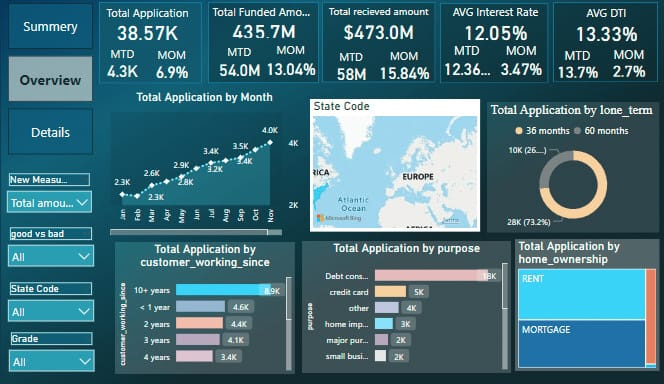

What the dashboard file says about the page in this screenshot:
{"tool":"powerbi","page":{"name":"Overview","canvas":[960,720],"ordinal":2},"visuals":[{"type":"group","id":"g1","title":"Group 7","box":[142,82.6,807.2,120.3],"z":0},{"type":"areaChart","fields":{"Category":["Date table.Month"],"Y":["financial_loandata bankloan.Total Application"]},"box":[153.5,212.2,280.8,213.9],"z":1000},{"type":"shape","box":[142.6,84.9,148,117.1],"z":2000,"group":"g2"},{"type":"shape","box":[463.5,85.4,163.2,115.7],"z":2000,"group":"g4"},{"type":"donutChart","fields":{"Y":["financial_loandata bankloan.Total Application"],"Category":["financial_loandata bankloan.lone_term"]},"box":[701.7,228.3,248.3,188.3],"z":2000},{"type":"card","fields":{"Values":["financial_loandata bankloan.Total Application"]},"box":[142,85.4,139.6,60.4],"z":3000,"group":"g2"},{"type":"shape","box":[632.2,86.5,155.9,115.5],"z":3000,"group":"g5"},{"type":"barChart","fields":{"Y":["financial_loandata bankloan.Total Application"],"Category":["financial_loandata bankloan.customer_working_since"]},"box":[165.2,430.4,259.4,189.9],"z":3000},{"type":"card","fields":{"Values":["financial_loandata bankloan.Total amount recieved"]},"box":[466.6,82.6,157.8,64.3],"z":4000,"group":"g4"},{"type":"card","fields":{"Values":["financial_loandata bankloan.MTD"]},"box":[143.4,144,64.5,55.3],"z":4000,"group":"g2"},{"type":"barChart","fields":{"Y":["financial_loandata bankloan.Total Application"],"Category":["financial_loandata bankloan.purpose"]},"box":[434.8,429,301.4,189.9],"z":4000},{"type":"card","fields":{"Values":["financial_loandata bankloan.MOM"]},"box":[210.6,145.3,71.3,54],"z":5000,"group":"g2"},{"type":"card","fields":{"Values":["financial_loandata bankloan.MTDrecieved"]},"box":[463.5,148.4,83.8,54.5],"z":5000,"group":"g4"},{"type":"treemap","fields":{"Values":["financial_loandata bankloan.Total Application"],"Group":["financial_loandata bankloan.home_ownership"]},"box":[741.7,426.7,208.3,190],"z":5000},{"type":"shape","box":[299.1,85.3,159.5,116.8],"z":6000,"group":"g3"},{"type":"card","fields":{"Values":["financial_loandata bankloan.MOMrecieved"]},"box":[540.3,147.1,83.7,54],"z":6000,"group":"g4"},{"type":"slicer","fields":{"Values":["financial_loandata bankloan.Grade"]},"box":[2.9,556.5,143.5,81.2],"z":6000},{"type":"shape","box":[795.3,86.6,151.1,115.5],"z":7000,"group":"g6"},{"type":"slicer","fields":{"Values":["financial_loandata bankloan.State Code"]},"box":[1.6,483.3,143.7,68.6],"z":7000},{"type":"card","fields":{"Values":["financial_loandata bankloan.AVGinterest rate"]},"box":[634.7,84.3,153.9,62],"z":8000,"group":"g5"},{"type":"slicer","fields":{"Values":["financial_loandata bankloan.good vs bad"]},"box":[1.6,404.9,143.7,70.2],"z":8000},{"type":"card","fields":{"Values":["financial_loandata bankloan.MTD Avg"]},"box":[631,137.4,79.7,60.9],"z":9000,"group":"g5"},{"type":"slicer","fields":{"Values":["New Measure .New Measure "]},"box":[0,326.5,142,71.8],"z":9000},{"type":"card","fields":{"Values":["financial_loandata bankloan.MOM interest"]},"box":[712.2,137.4,75.4,60.9],"z":10000,"group":"g5"},{"type":"filledMap","fields":{"Category":["financial_loandata bankloan.State Code"]},"box":[445.7,225.3,244.9,191],"z":10000},{"type":"card","fields":{"Values":["financial_loandata bankloan.AVG Dti"]},"box":[795.3,86.1,153.9,62],"z":11000,"group":"g6"},{"type":"pageNavigator","box":[11.4,86.5,122.4,218.8],"z":11000},{"type":"card","fields":{"Values":["Sum(financial_loandata bankloan.loan_amount)"]},"box":[300.3,84,158.3,58.4],"z":12000,"group":"g3"},{"type":"card","fields":{"Values":["financial_loandata bankloan.MTD DTI"]},"box":[795.3,144.9,70.1,54.4],"z":12000,"group":"g6"},{"type":"card","fields":{"Values":["financial_loandata bankloan.MTDfunded"]},"box":[306.8,140.7,75.4,56.5],"z":13000,"group":"g7"},{"type":"card","fields":{"Values":["financial_loandata bankloan.MOM DTI"]},"box":[860.3,144.3,88.9,54.5],"z":13000,"group":"g6"},{"type":"group","id":"g2","title":"Group 1","box":[142,84.9,148.6,117.1],"z":14000,"group":"g1"},{"type":"card","fields":{"Values":["financial_loandata bankloan.MOM funded"]},"box":[370.1,138.5,97.1,60.9],"z":14000,"group":"g7"},{"type":"group","id":"g3","title":"Group 2","box":[299.1,84,168.1,118.1],"z":15000,"group":"g1"},{"type":"group","id":"g4","title":"Group 3","box":[463.5,82.6,163.2,120.3],"z":16000,"group":"g1"},{"type":"group","id":"g5","title":"Group 4","box":[631,84.3,157.6,117.7],"z":17000,"group":"g1"},{"type":"group","id":"g6","title":"Group 5","box":[795.3,86.1,154,115.9],"z":18000,"group":"g1"},{"type":"group","id":"g7","title":"Group 6","box":[306.8,138.5,160.4,60.9],"z":27004,"group":"g3"}]}

Visuals, with their boxes on the page's 960x720 design canvas (x1, y1, x2, y2). These are canvas units, not pixel positions in the 664x384 screenshot, which may show the page scaled, cropped or inside an application window:
"Group 7" group: 142/83/949/203
areaChart - Date table.Month x financial_loandata bankloan.Total Application: 154/212/434/426
shape: 143/85/291/202
shape: 464/85/627/201
donutChart - financial_loandata bankloan.Total Application x financial_loandata bankloan.lone_term: 702/228/950/417
card - financial_loandata bankloan.Total Application: 142/85/282/146
shape: 632/86/788/202
barChart - financial_loandata bankloan.Total Application x financial_loandata bankloan.customer_working_since: 165/430/425/620
card - financial_loandata bankloan.Total amount recieved: 467/83/624/147
card - financial_loandata bankloan.MTD: 143/144/208/199
barChart - financial_loandata bankloan.Total Application x financial_loandata bankloan.purpose: 435/429/736/619
card - financial_loandata bankloan.MOM: 211/145/282/199
card - financial_loandata bankloan.MTDrecieved: 464/148/547/203
treemap - financial_loandata bankloan.Total Application x financial_loandata bankloan.home_ownership: 742/427/950/617
shape: 299/85/459/202
card - financial_loandata bankloan.MOMrecieved: 540/147/624/201
slicer - financial_loandata bankloan.Grade: 3/556/146/638
shape: 795/87/946/202
slicer - financial_loandata bankloan.State Code: 2/483/145/552
card - financial_loandata bankloan.AVGinterest rate: 635/84/789/146
slicer - financial_loandata bankloan.good vs bad: 2/405/145/475
card - financial_loandata bankloan.MTD Avg: 631/137/711/198
slicer - New Measure .New Measure : 0/326/142/398
card - financial_loandata bankloan.MOM interest: 712/137/788/198
filledMap - financial_loandata bankloan.State Code: 446/225/691/416
card - financial_loandata bankloan.AVG Dti: 795/86/949/148
pageNavigator: 11/86/134/305
card - Sum(financial_loandata bankloan.loan_amount): 300/84/459/142
card - financial_loandata bankloan.MTD DTI: 795/145/865/199
card - financial_loandata bankloan.MTDfunded: 307/141/382/197
card - financial_loandata bankloan.MOM DTI: 860/144/949/199
"Group 1" group: 142/85/291/202
card - financial_loandata bankloan.MOM funded: 370/138/467/199
"Group 2" group: 299/84/467/202
"Group 3" group: 464/83/627/203
"Group 4" group: 631/84/789/202
"Group 5" group: 795/86/949/202
"Group 6" group: 307/138/467/199
